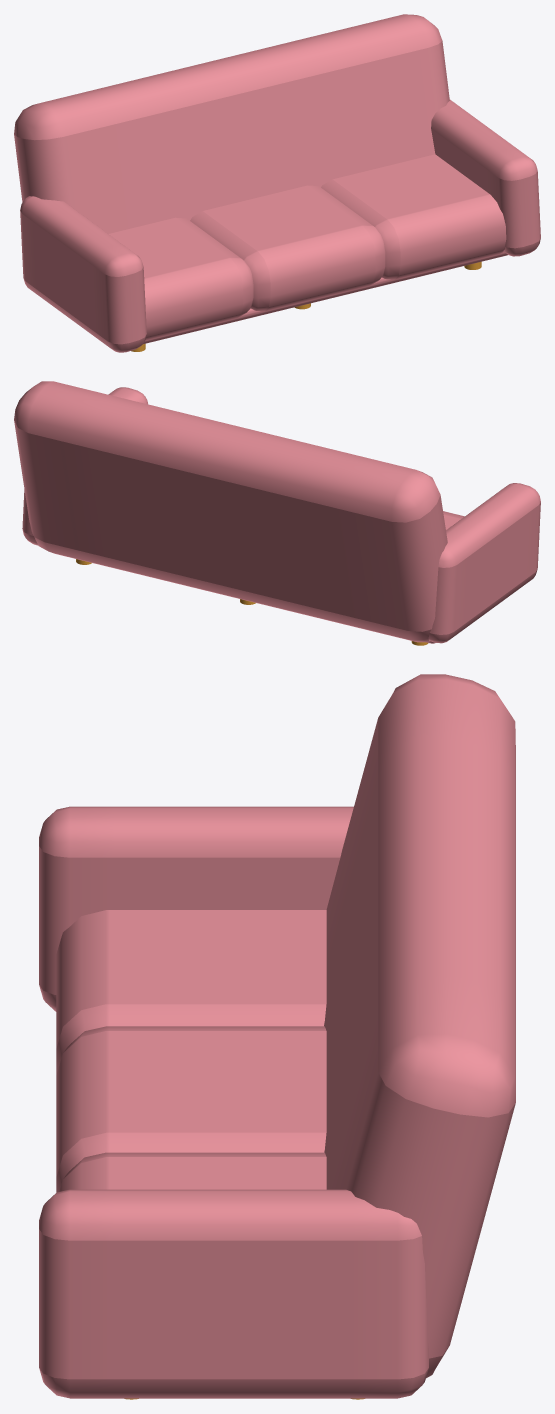
Rendered from couch.fbx.
3 renders of one model, top to bottom at view 1: azimuth 30°, elevation 25°; view 2: azimuth 150°, elevation 25°; view 3: azimuth 270°, elevation 25°, orthographic. The views are drawn at different scales.
Parts seen in each view (by area): view 1: pCube4, pCube2, pCube3, pCube5, pCube1, pCube6, pCube7; view 2: pCube4, pCube5, pCube6; view 3: pCube4, pCube6, pCube2, pCube5, pCube1, pCube3.
Boxes of the visible parts, x1,y1,x2,y2 form: pCube4: (14, 14, 449, 233); pCube2: (190, 185, 385, 311); pCube3: (321, 154, 506, 279); pCube5: (20, 196, 146, 352); pCube1: (109, 217, 253, 340); pCube6: (431, 99, 540, 256); pCube7: (143, 252, 507, 344); pCube4: (14, 381, 447, 642); pCube5: (428, 483, 540, 643); pCube6: (22, 387, 147, 545); pCube4: (324, 674, 515, 1378); pCube6: (39, 1189, 428, 1398); pCube2: (56, 1026, 326, 1192); pCube5: (39, 806, 353, 1011); pCube1: (56, 910, 326, 1074); pCube3: (59, 1152, 326, 1191).
Size of the model in its own units: 2.81 by 1.16 by 1.34.
